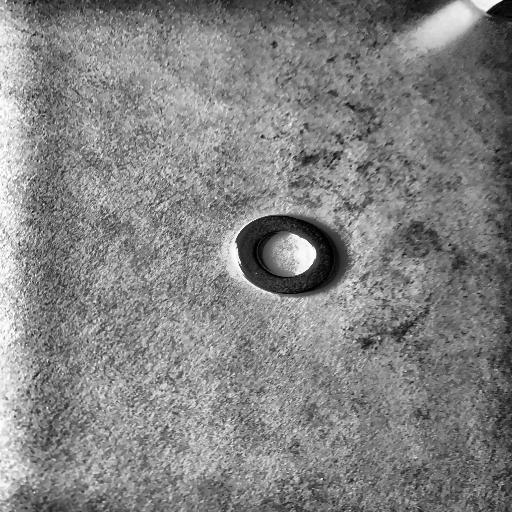Washer: (236, 214, 339, 295)
